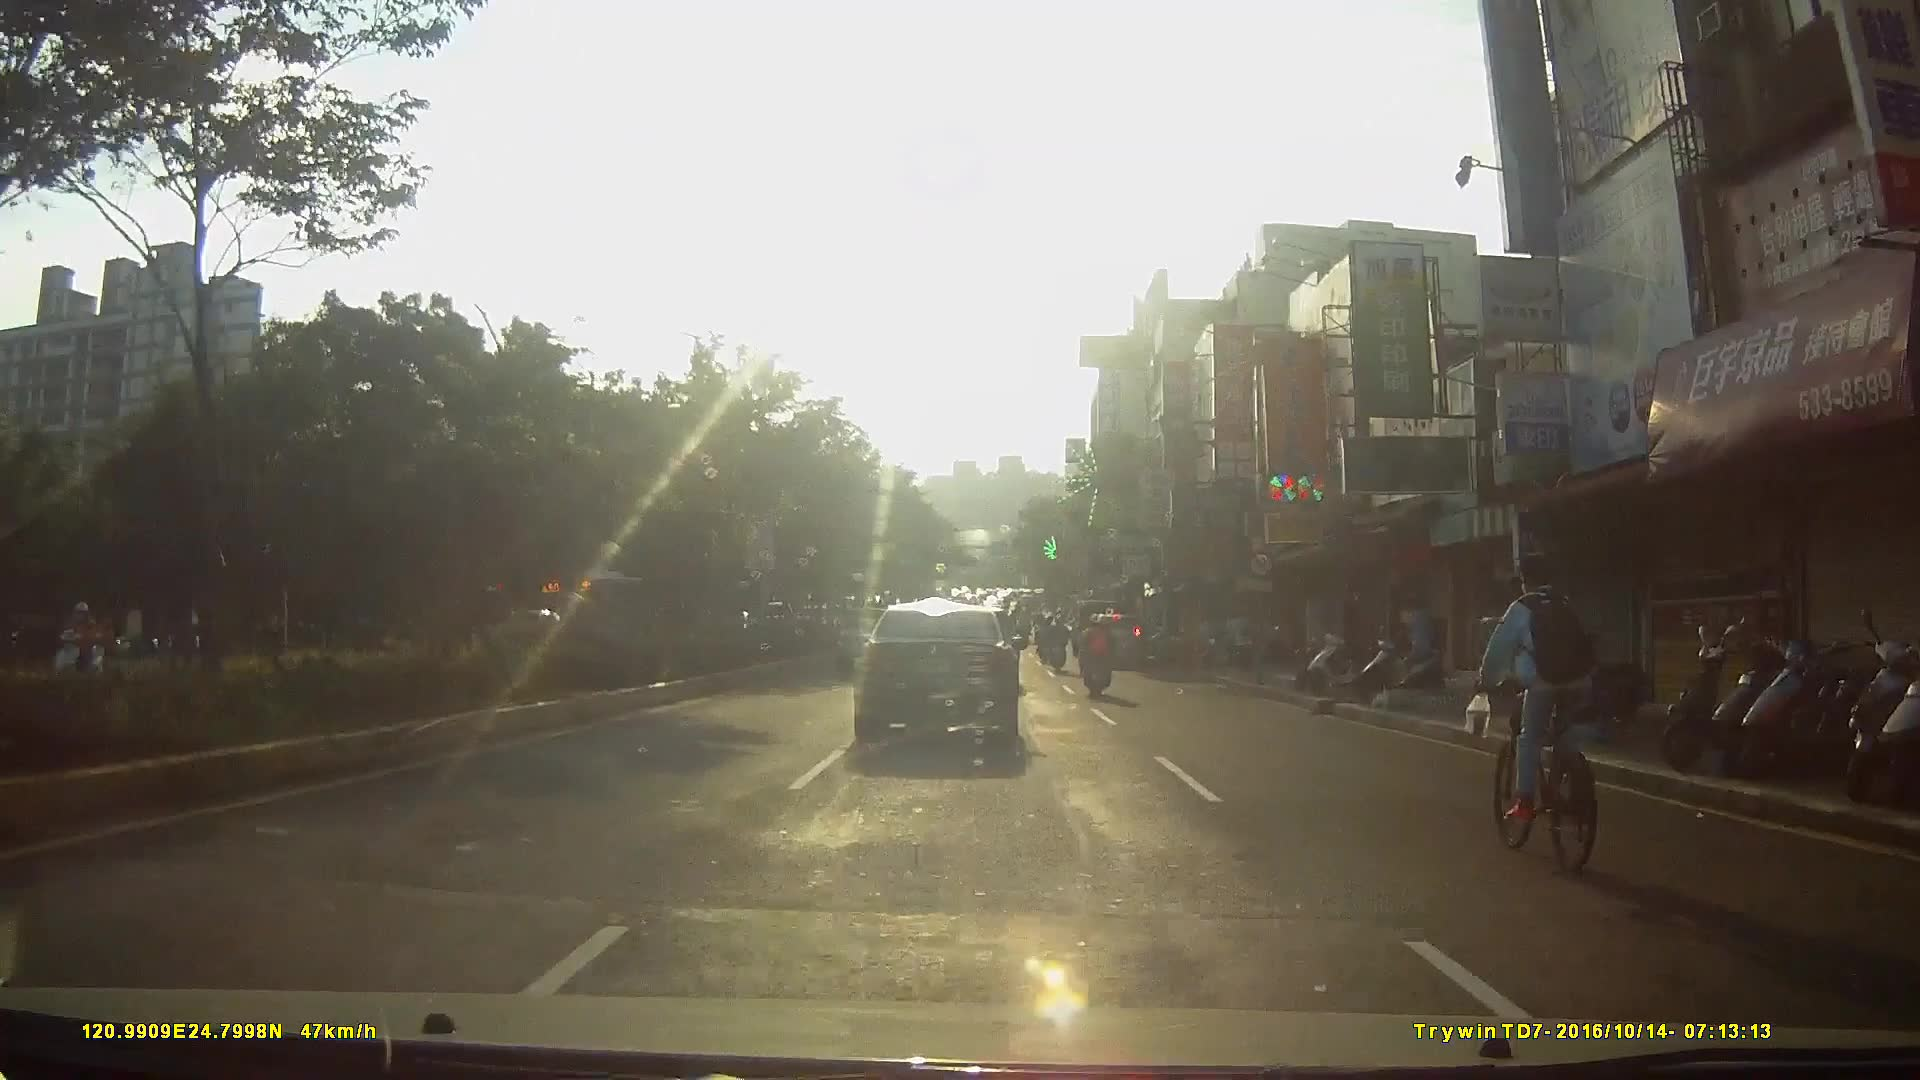rider: (1473, 560, 1603, 872), (47, 597, 114, 700), (1075, 619, 1116, 711), (1043, 618, 1071, 677)
vehicle: (848, 597, 1037, 767), (1082, 611, 1152, 672)
